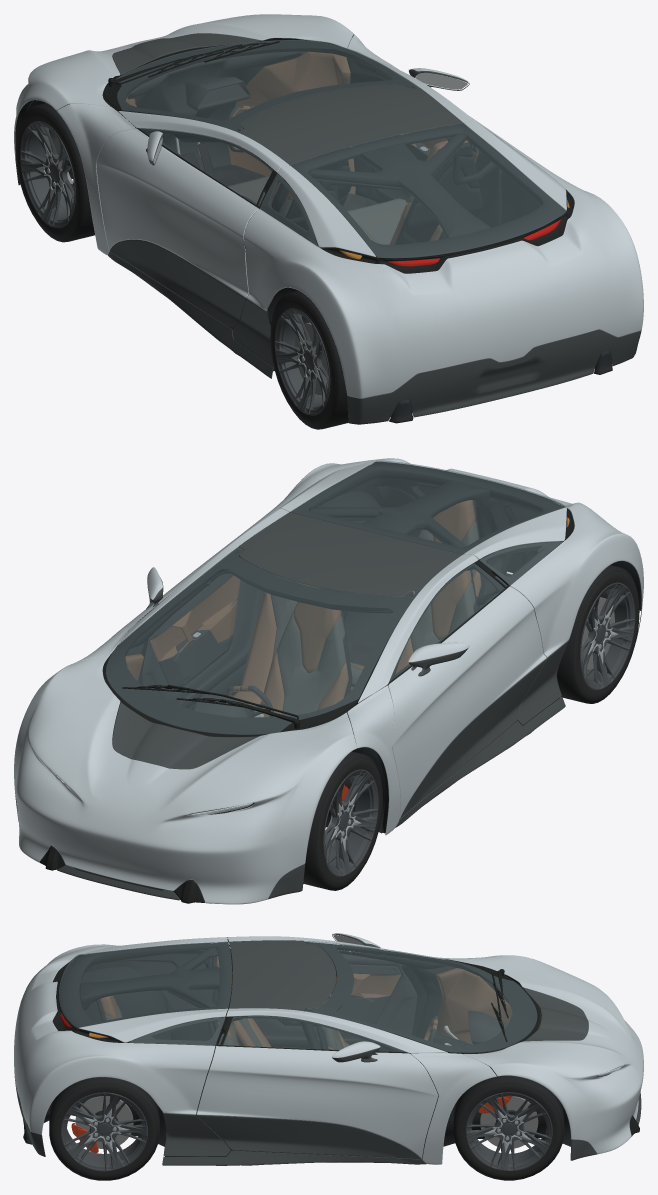
The model's file is aurelia-cx.glb.
3 views of the same model, one above another, from view 1: azimuth 30°, elevation 25°; view 2: azimuth 150°, elevation 25°; view 3: azimuth 270°, elevation 25° (orthographic). The views are drawn at different scales.
Parts seen in each view (by area): view 1: Shell, RL, FL; view 2: Shell, RL, FL; view 3: Shell, FR, RR.
Boxes of the visible parts, x1,y1,x2,y2 form: Shell: (14, 14, 643, 424); RL: (270, 291, 348, 429); FL: (15, 103, 94, 242); Shell: (14, 458, 643, 904); RL: (557, 565, 639, 703); FL: (303, 751, 382, 890); Shell: (14, 933, 643, 1165); FR: (453, 1074, 564, 1180); RR: (49, 1077, 159, 1180).
Size of the model in its own units: 2.15 by 1.23 by 4.65.
